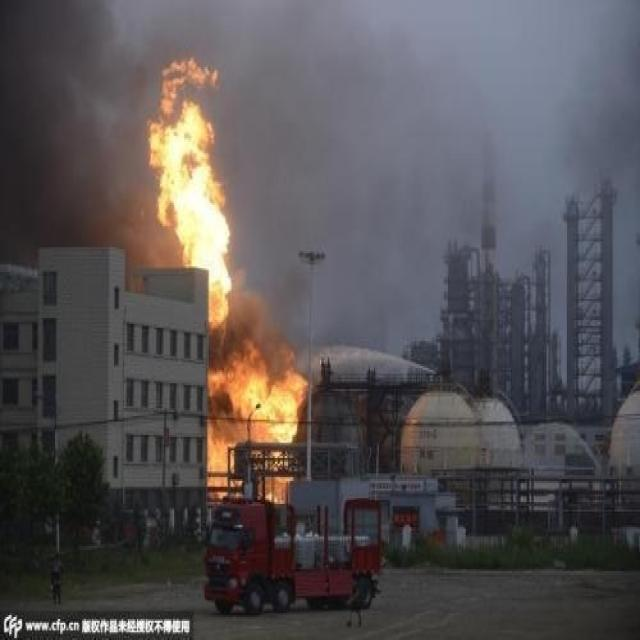Fire: (146, 56, 234, 326), (208, 337, 308, 506)
Smoke: (1, 2, 292, 439)
